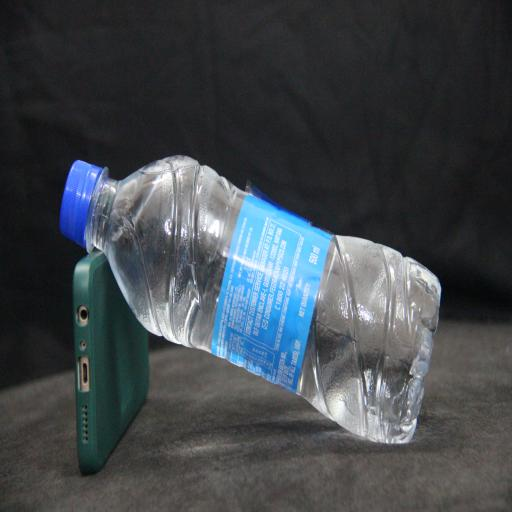Aquafina: (60, 156, 441, 444)
